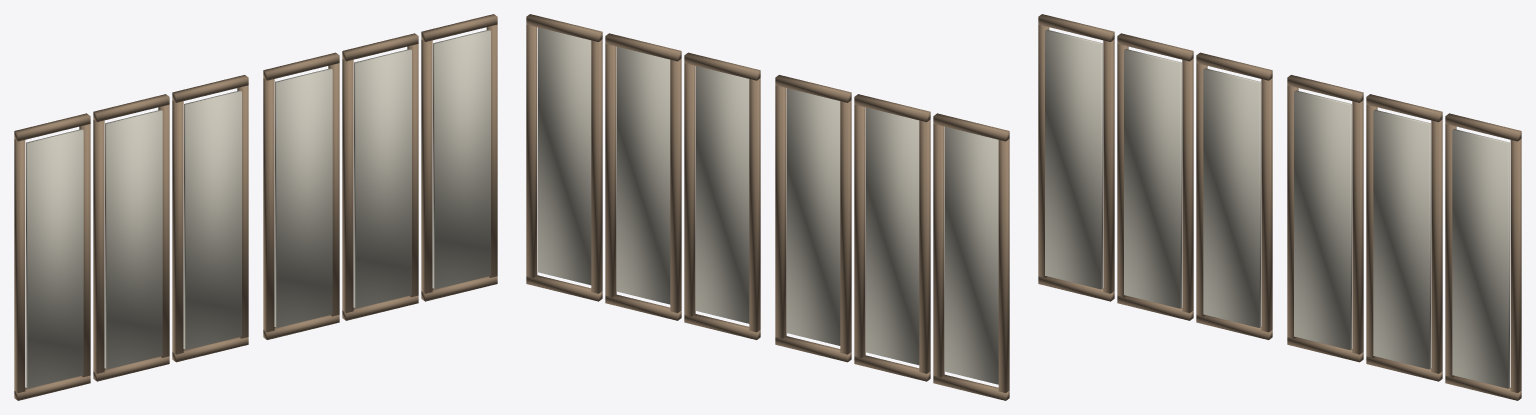
The model's file is funeral_folding_screen__cluster.glb.
3 renders of one model, left to right at view 1: azimuth 30°, elevation 25°; view 2: azimuth 150°, elevation 25°; view 3: azimuth 330°, elevation 25°, orthographic.
Visible parts, largest first — view 1: world; view 2: world; view 3: world.
Boxes of the visible parts, left/top/right/bottom form: world: left=14, top=14, right=497, bottom=400; world: left=526, top=14, right=1009, bottom=400; world: left=1038, top=14, right=1521, bottom=400.
Bounding box in the file's own units: 2.91 × 1.55 × 0.055.
